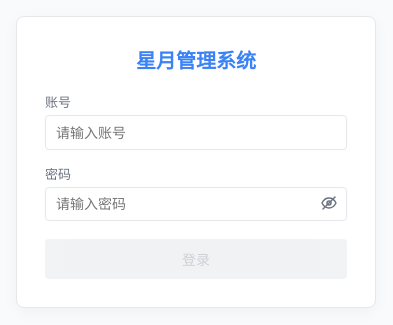
Login › 两个都填:按钮 enabled
Type "admin" into the field with test id "account-input" at coordinates (196, 132), box [45,115,347,150]
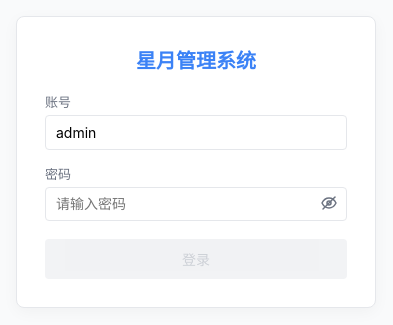
Type "x" into the password field with test id "password-input" at coordinates (196, 204), box [45,187,347,221]
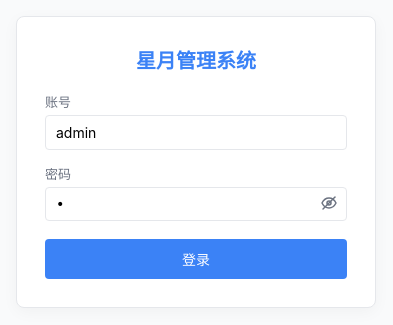
Expected: the button with test id "login-submit" is enabled, [45,239,347,279]
